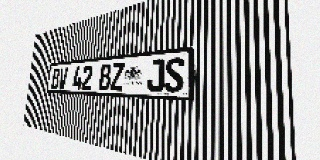2: (81, 65, 93, 90)
4: (72, 66, 83, 90)
B: (98, 63, 112, 90), (51, 68, 60, 89)
J: (147, 59, 165, 92)
S: (164, 57, 184, 93)
V: (58, 67, 68, 89)
Z: (110, 62, 125, 91)
